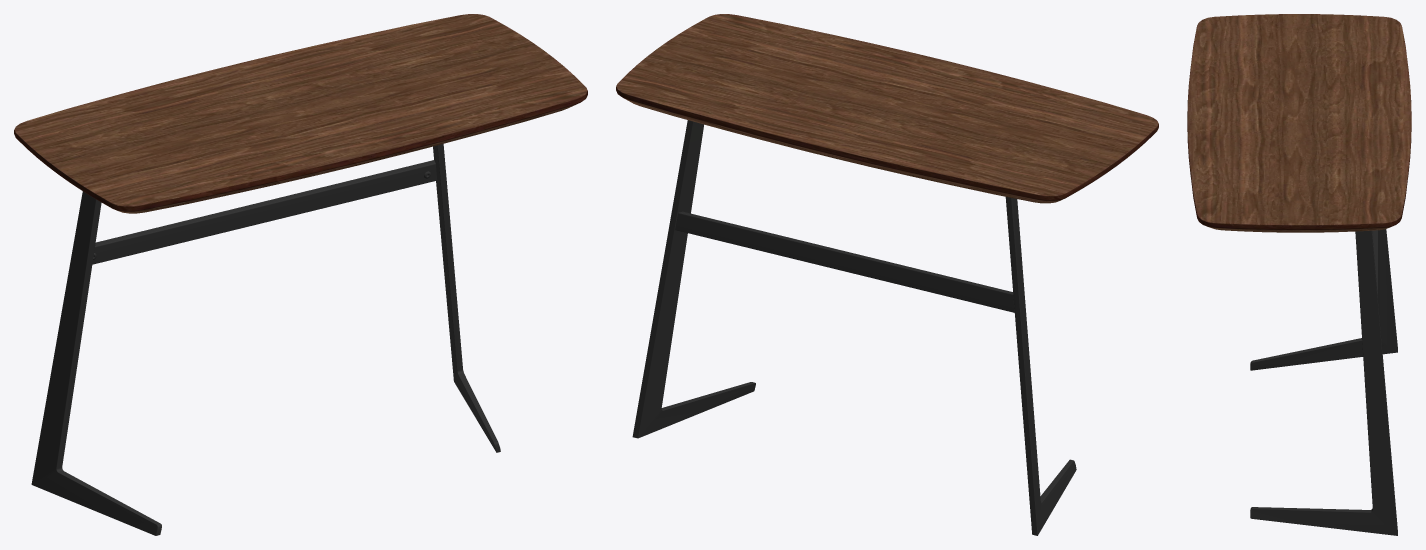
The model's file is abo-B072ZK2FZ6.glb.
The picture shows the model from 3 angles, left to right: view 1: azimuth 30°, elevation 25°; view 2: azimuth 150°, elevation 25°; view 3: azimuth 270°, elevation 25°; orthographic projection. The views are drawn at different scales.
Size of the model in its own units: 0.804 by 0.576 by 0.361.
1 material, 1 textured.
